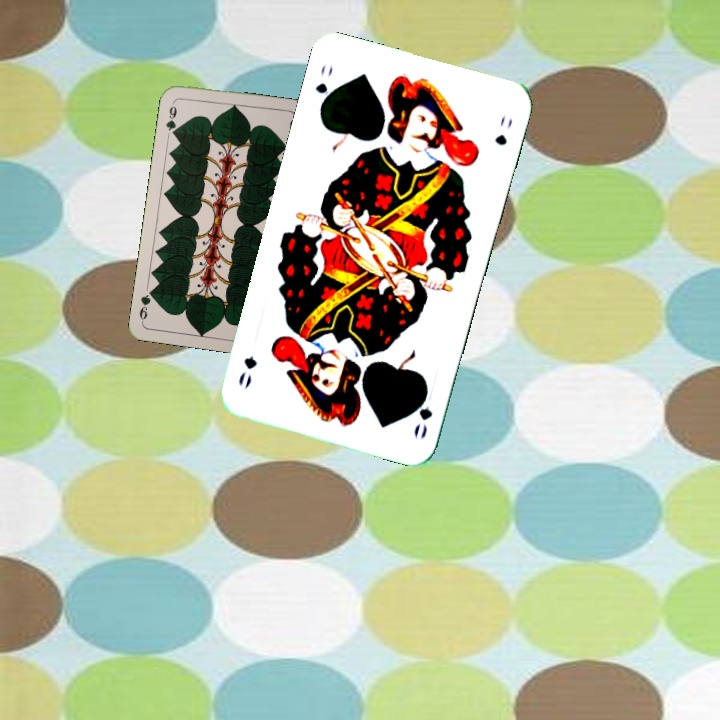G9: (162, 97, 179, 138)
GO: (410, 382, 435, 441), (311, 60, 336, 115)
